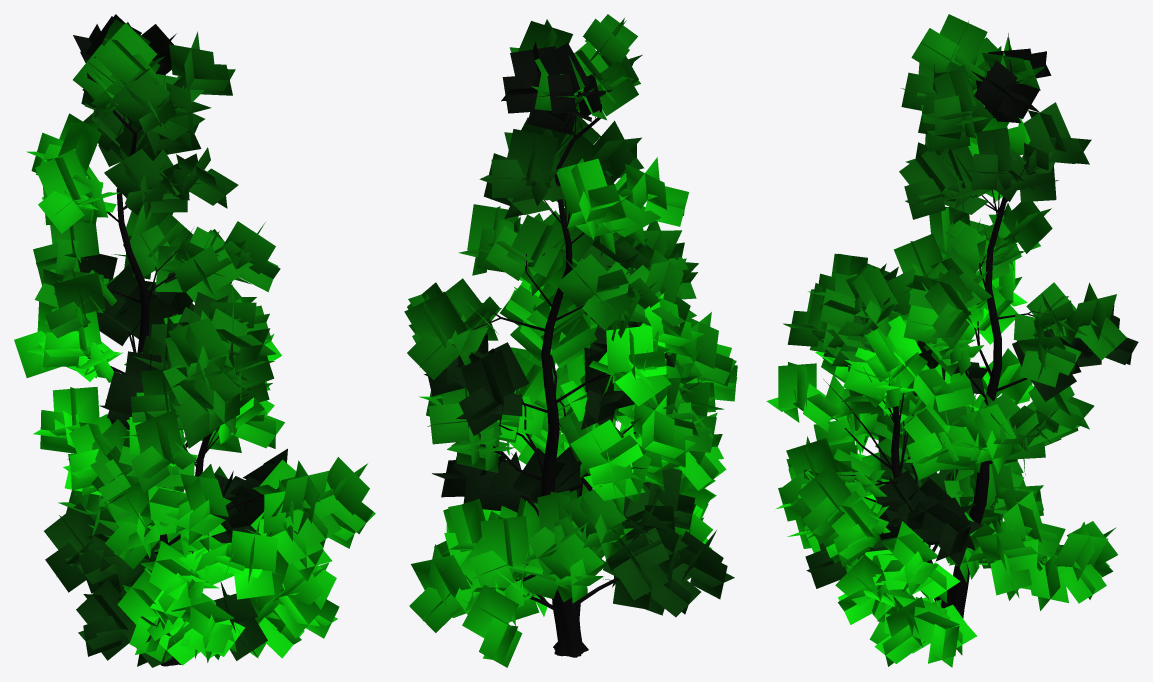
Rendered from Type_1_6.fbx.
3 renders of one model, left to right at view 1: azimuth 30°, elevation 25°; view 2: azimuth 150°, elevation 25°; view 3: azimuth 270°, elevation 25°, orthographic. The views are drawn at different scales.
Visible parts, largest first — view 1: Type_1_6; view 2: Type_1_6; view 3: Type_1_6.
Part boxes in pixels (<box>): Type_1_6: <box>14,14,375,667</box>; Type_1_6: <box>404,14,737,667</box>; Type_1_6: <box>766,14,1138,667</box>.
Bounding box in the file's own units: 334 × 763 × 434.
